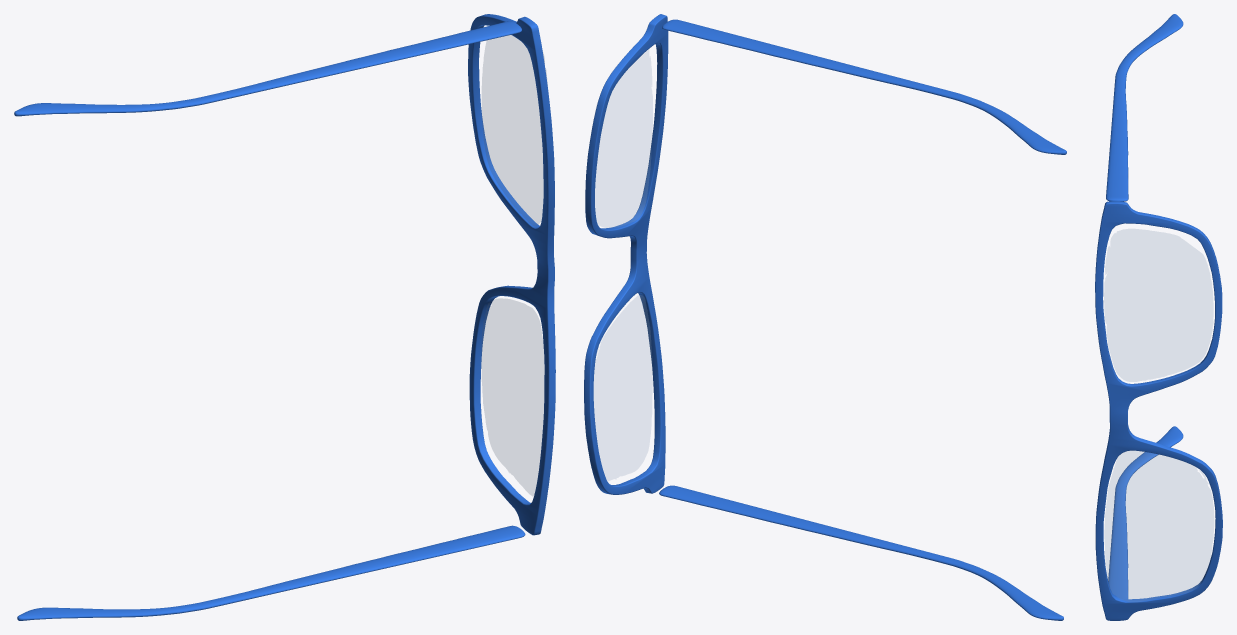
File: model_0_blue.glb
The picture shows the model from 3 angles, left to right: view 1: azimuth 30°, elevation 25°; view 2: azimuth 150°, elevation 25°; view 3: azimuth 270°, elevation 25°; orthographic projection. The views are drawn at different scales.
Parts seen in each view (by area): view 1: o model_0, Blue_Transparent_Lens_1, Blue_Transparent_Lens_2; view 2: o model_0, Blue_Transparent_Lens_1, Blue_Transparent_Lens_2; view 3: o model_0, Blue_Transparent_Lens_2, Blue_Transparent_Lens_1.
Part boxes in pixels (x1,y1,x2,y2): o model_0: (14,14,555,620); Blue_Transparent_Lens_1: (481,298,544,496); Blue_Transparent_Lens_2: (482,35,546,225); o model_0: (584,14,1066,620); Blue_Transparent_Lens_1: (594,295,652,480); Blue_Transparent_Lens_2: (595,49,652,227); o model_0: (1095,14,1222,620); Blue_Transparent_Lens_2: (1104,229,1213,381); Blue_Transparent_Lens_1: (1104,451,1213,601).
Size of the model in its own units: 12.74 by 12.44 by 3.46.
